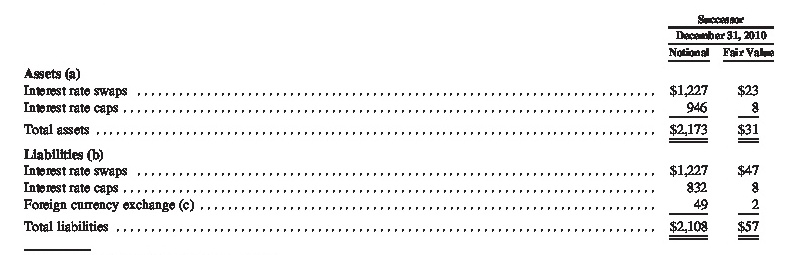table: (0, 0, 788, 255)
